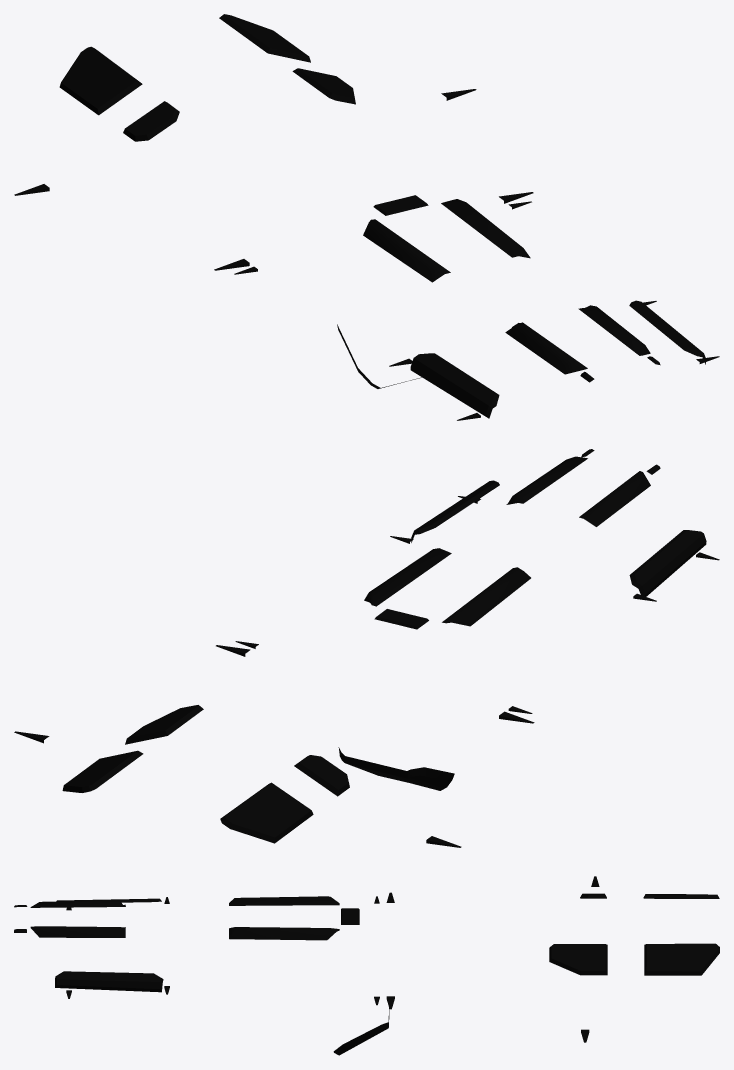
Rendered from hgn_cf_ionc_01_t2.glb.
3 views of the same model, one above another, from view 1: azimuth 30°, elevation 25°; view 2: azimuth 150°, elevation 25°; view 3: azimuth 270°, elevation 25° (orthographic). The views are drawn at different scales.
Visible parts, largest first — view 1: hgn_ion_cannon_frigate_01_t2_LOD0; view 2: hgn_ion_cannon_frigate_01_t2_LOD0; view 3: hgn_ion_cannon_frigate_01_t2_LOD0.
Boxes of the visible parts, x1,y1,x2,y2 form: hgn_ion_cannon_frigate_01_t2_LOD0: [14, 14, 719, 420]; hgn_ion_cannon_frigate_01_t2_LOD0: [14, 449, 719, 847]; hgn_ion_cannon_frigate_01_t2_LOD0: [14, 876, 719, 1055].
Size of what is drawn, in the model's own units: 1.66 by 0.6143 by 2.97.
1 material, 1 textured.
